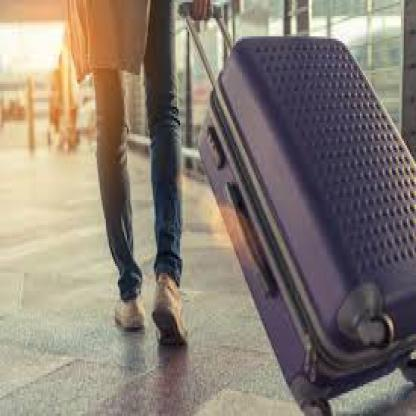maleta: (187, 43, 415, 415)
